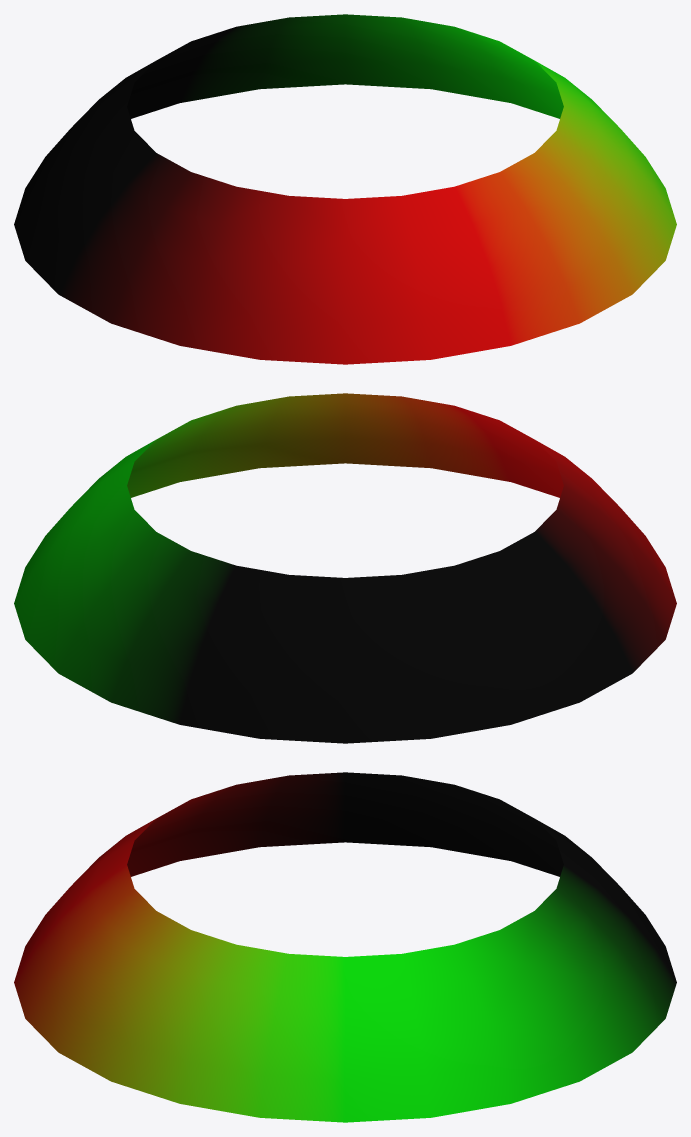
Rendered from uni_dome_arc.fbx.
3 renders of one model, top to bottom at view 1: azimuth 30°, elevation 25°; view 2: azimuth 150°, elevation 25°; view 3: azimuth 270°, elevation 25°, orthographic.
Parts seen in each view (by area): view 1: uni_dome_arc; view 2: uni_dome_arc; view 3: uni_dome_arc.
Boxes of the visible parts, box(x1,y1,x2,y2) form: uni_dome_arc: box(14, 14, 676, 364); uni_dome_arc: box(14, 393, 676, 743); uni_dome_arc: box(14, 772, 676, 1122).
Size of the model in its own units: 23651 by 23651 by 4639.
